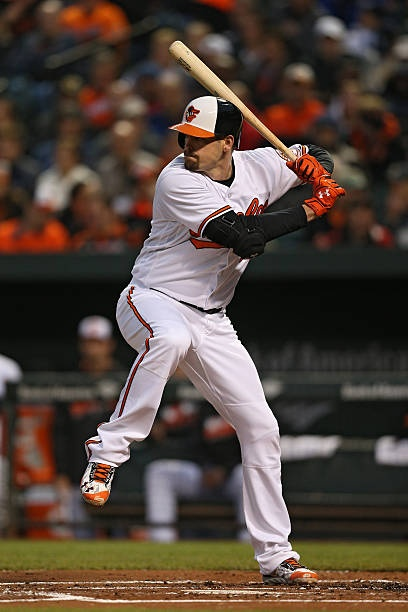bita: (161, 32, 328, 186)
